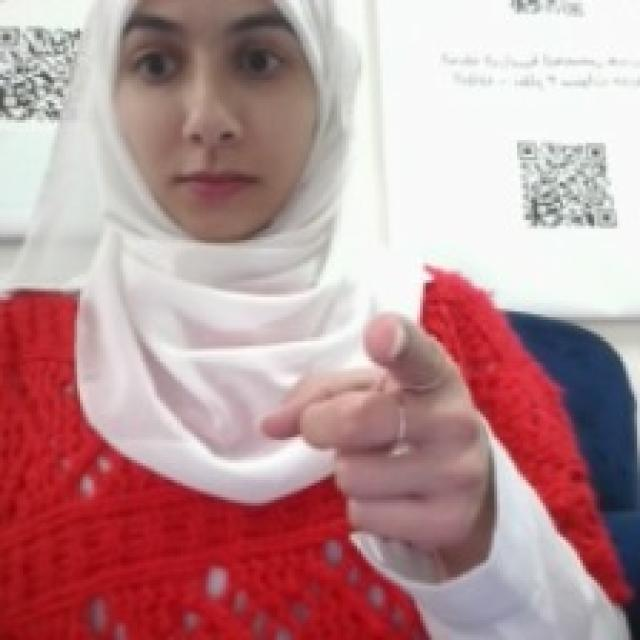you: (254, 303, 500, 563)
